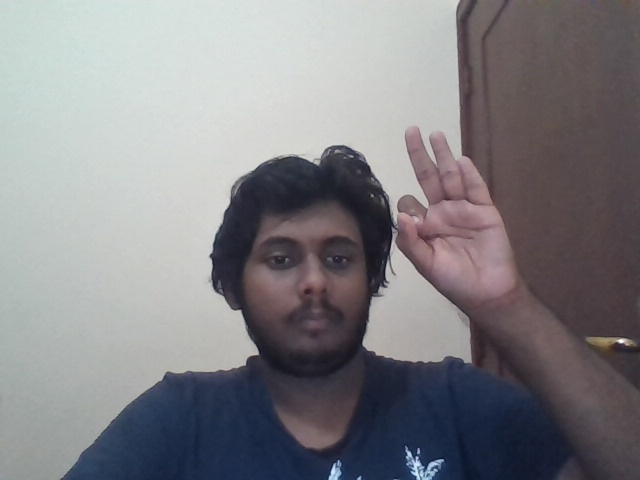ok: (395, 124, 519, 312)
